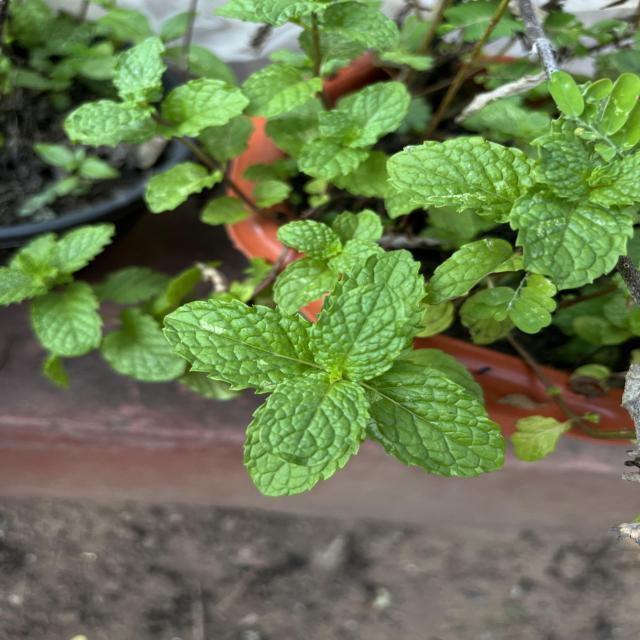Mentha spicata: (364, 358, 508, 480), (308, 248, 430, 382), (241, 375, 372, 498), (160, 296, 316, 396)
